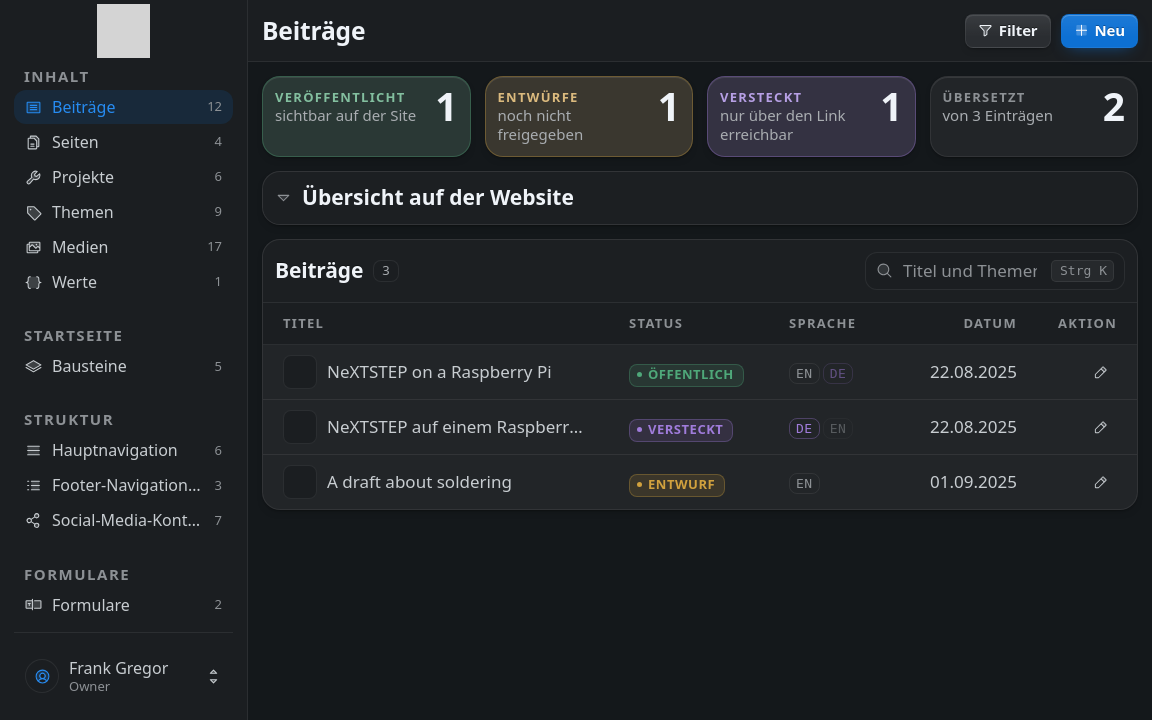
Scenario: dashboard shell › lists the posts with figures that count the rows below them
The image size is (1152, 720).
Expected: the number of rows is 4, [263,303,1137,345]; [263,345,1137,400]; [263,400,1137,455]; [263,455,1137,509]
Expected: the number of elements titled "Auch auf Deutsch" is 1, [823,363,853,384]
Click the button "Filter" at (1008, 31), box [965,14,1051,48]
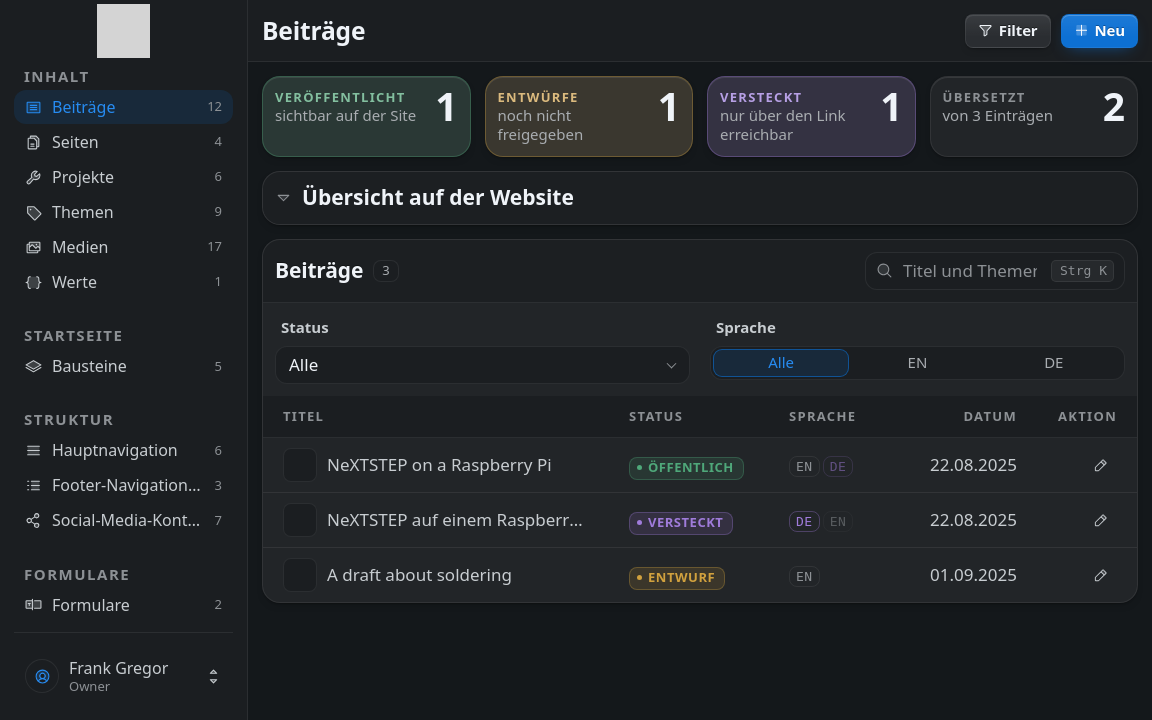
Click the button "DE" at (1054, 363), box [986,349,1122,377]
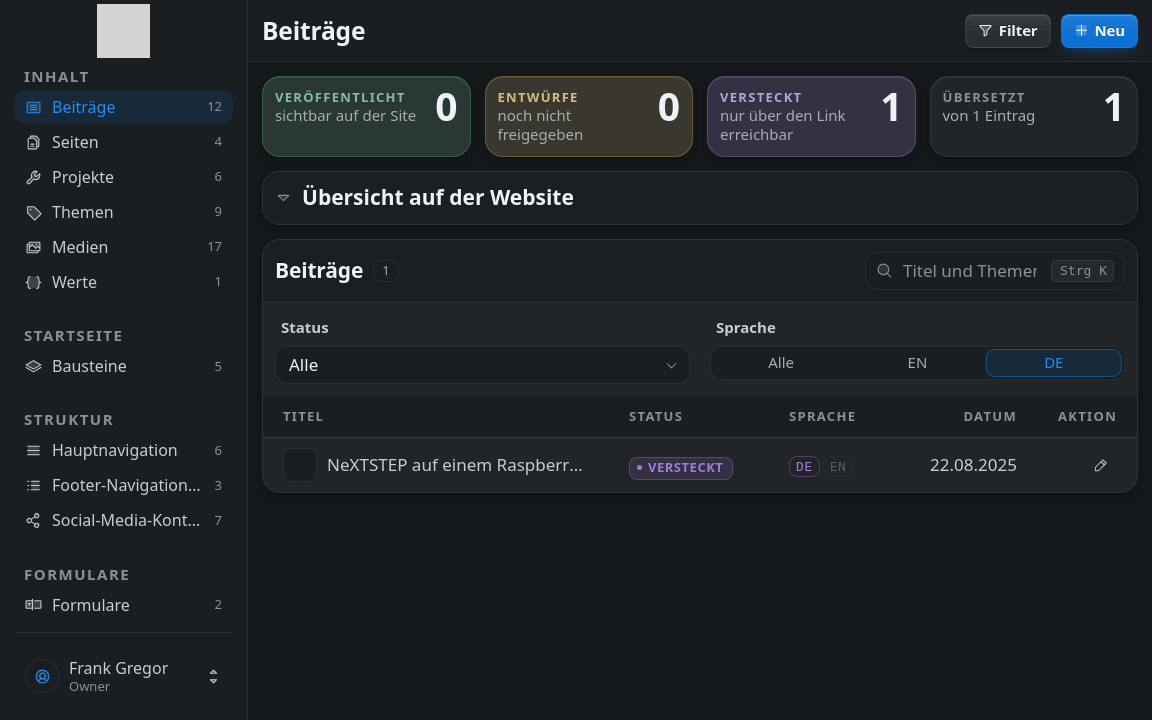
Expected: the number of rows is 2, [263,396,1137,438]; [263,438,1137,492]
Click the button "Alle" at (781, 363), box [713,349,849,377]
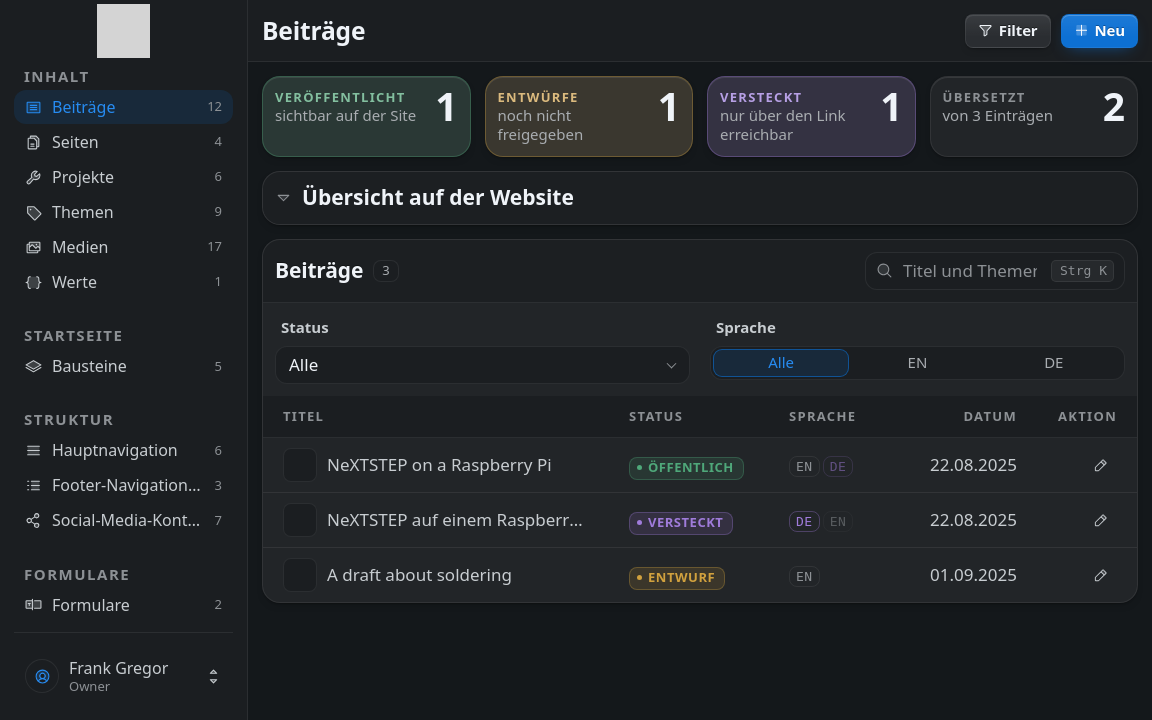
Type "solder" into the search field named "Titel und Themen durchsuchen" at (972, 271), box [903,253,1041,289]
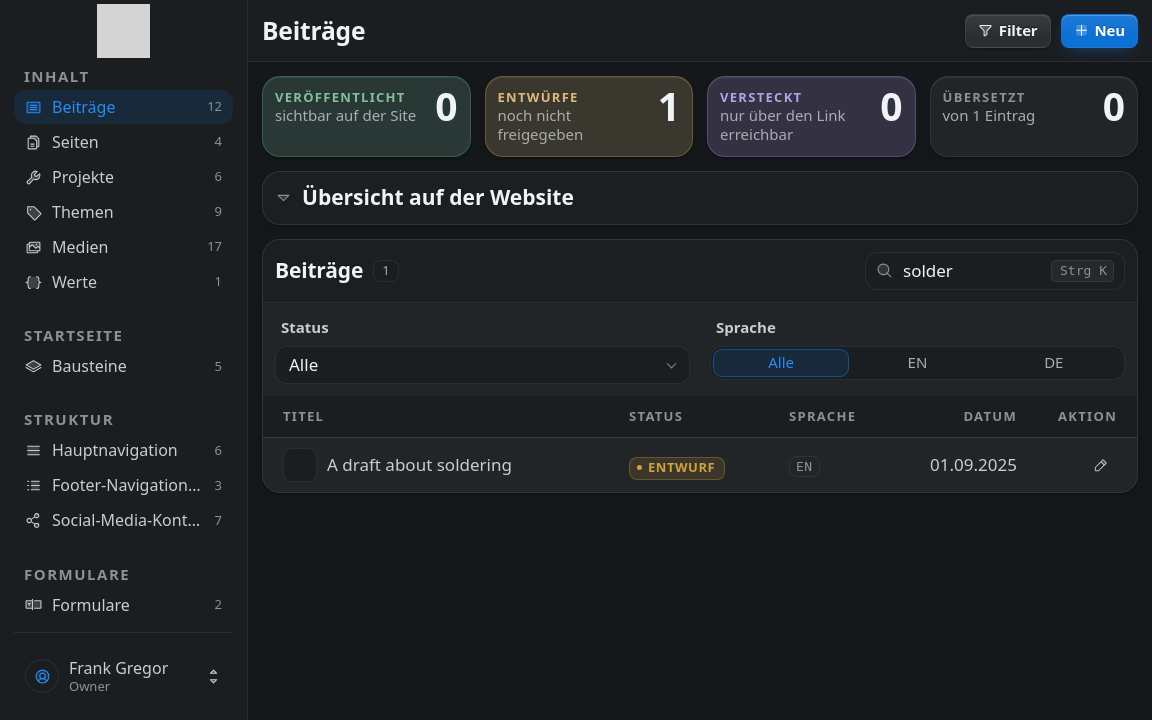
Expected: the number of rows is 2, [263,396,1137,438]; [263,438,1137,492]
Select "Öffentlich" in the dropdown labelled "Status" at (482, 365), box [275,346,690,384]
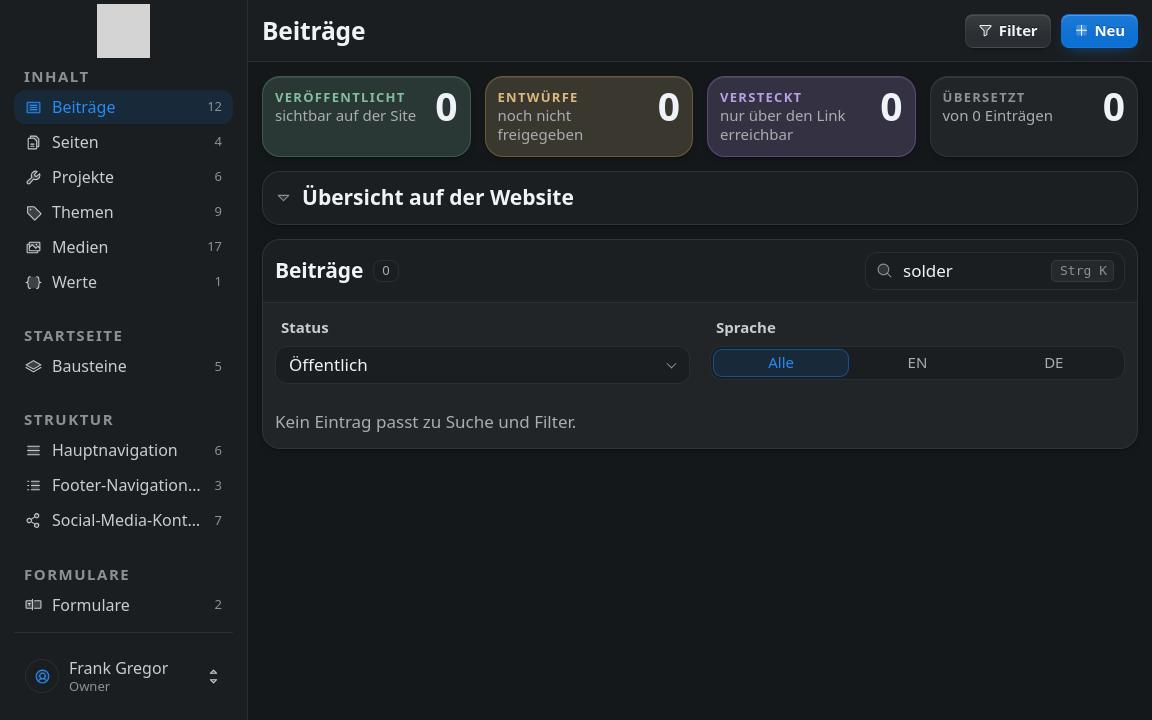
Expected: the table is gone
Expected: the text "Kein Eintrag passt zu Suche und Filter." is shown, [275,410,576,433]
Click the button "Filter" at (1008, 31), box [965,14,1051,48]
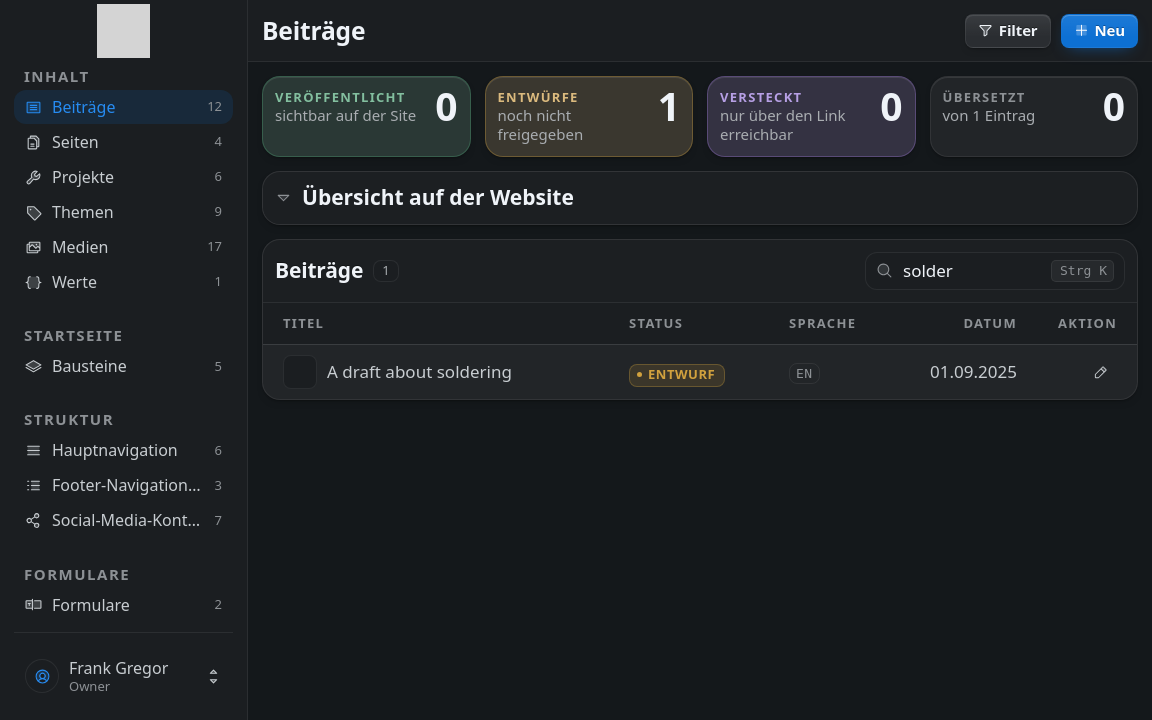
Expected: the number of rows is 2, [263,303,1137,345]; [263,345,1137,399]
